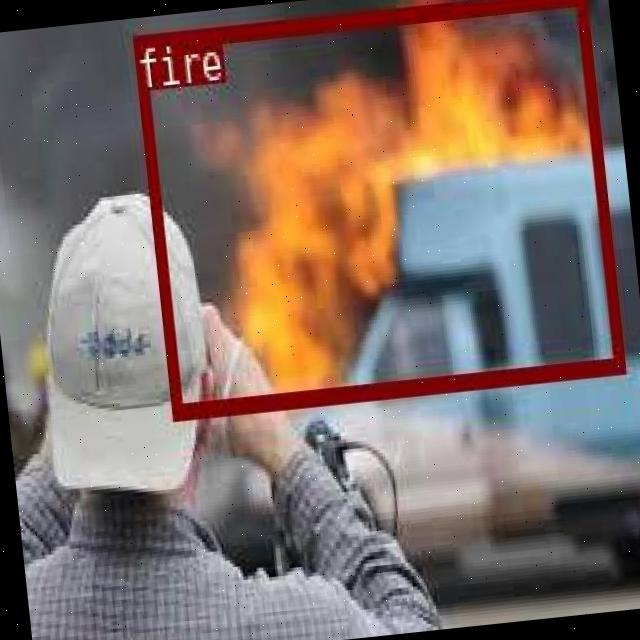fire: (130, 0, 623, 418)
